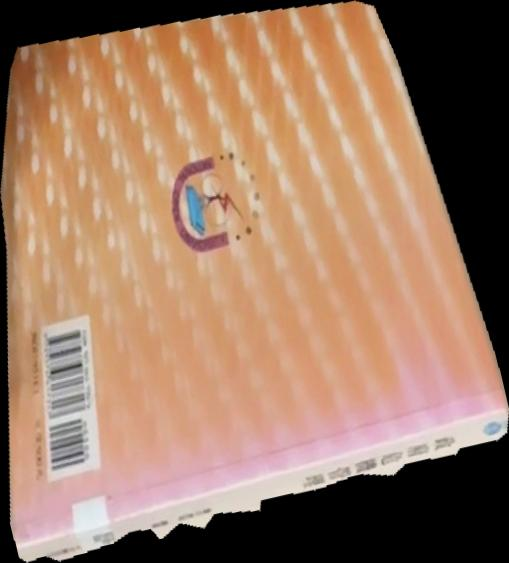flat: (1, 1, 509, 563)
